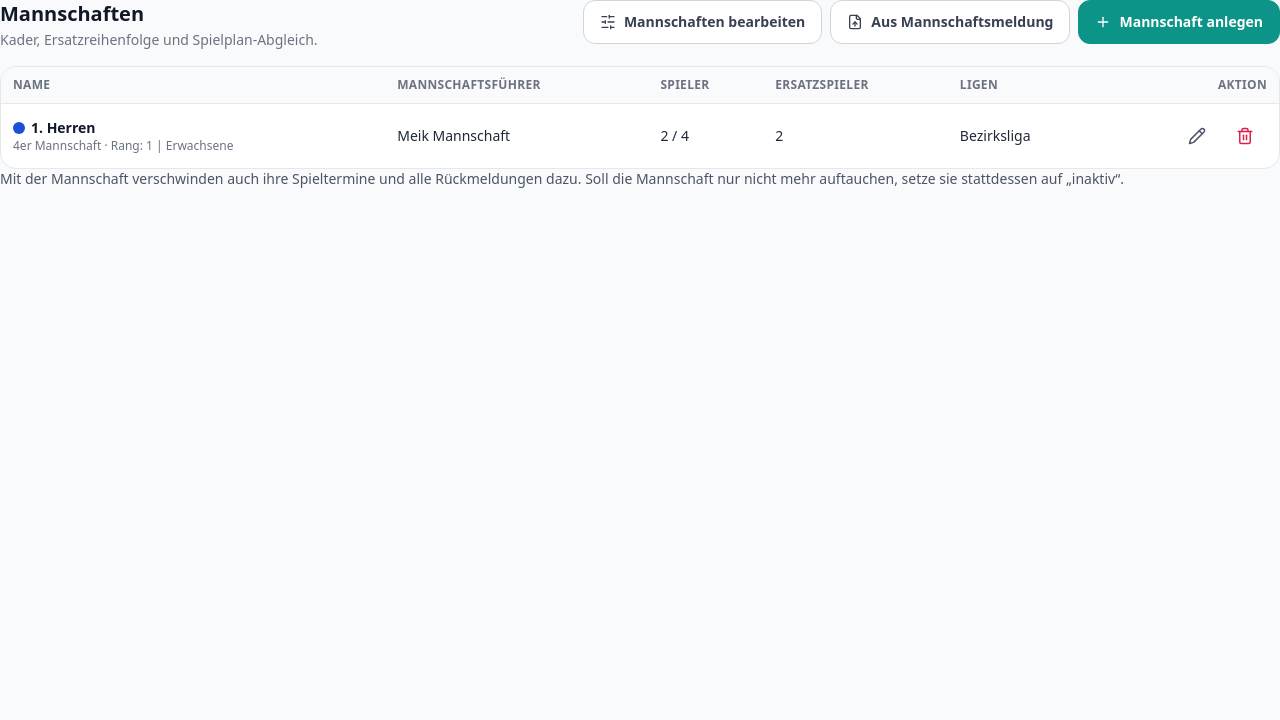
Test: TeamsPage › öffnet den Dialog mit den gespeicherten Werten
Click the button named "1. Herren bearbeiten".
click(1197, 136)  # box [1175,114,1219,158]
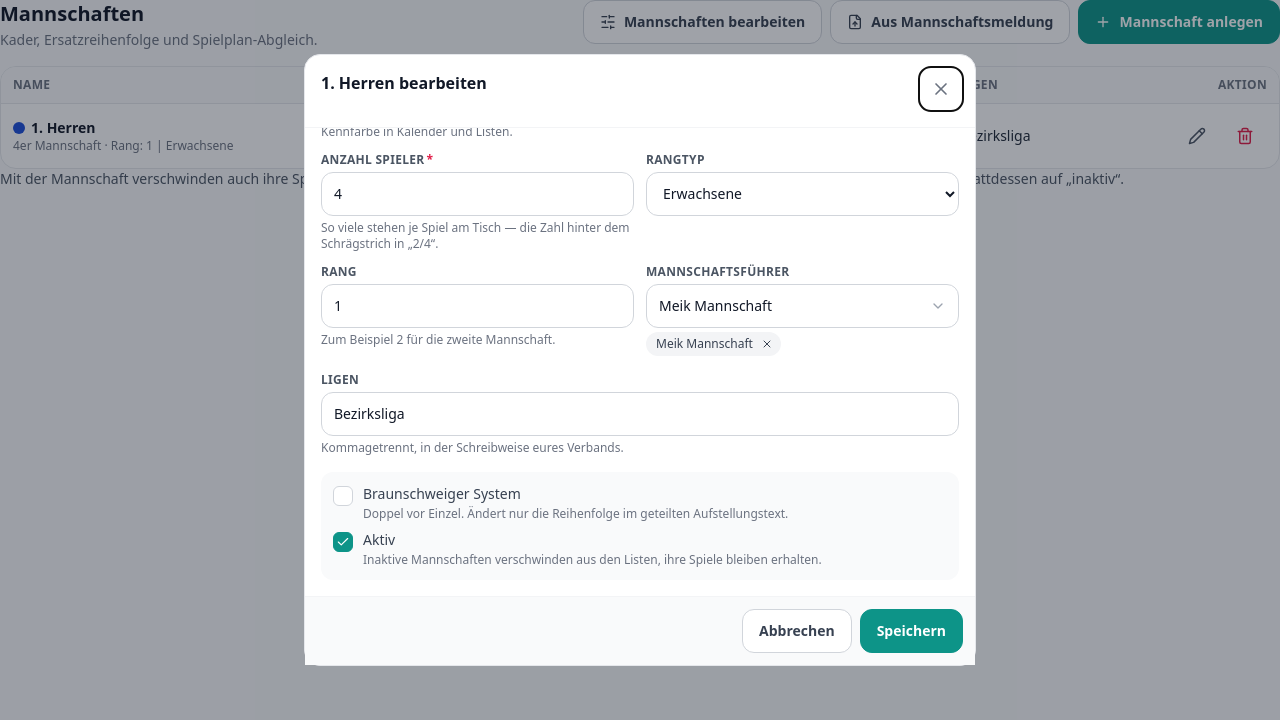
Expected: the number field labelled "Anzahl Spieler*" holds "4", [321,172,634,216]
Expected: the field labelled "Ligen" holds "Bezirksliga", [321,392,959,436]
